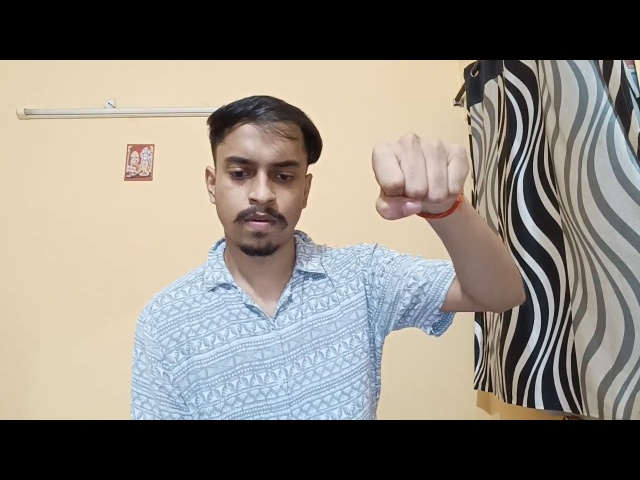Yes: (356, 129, 481, 228)
